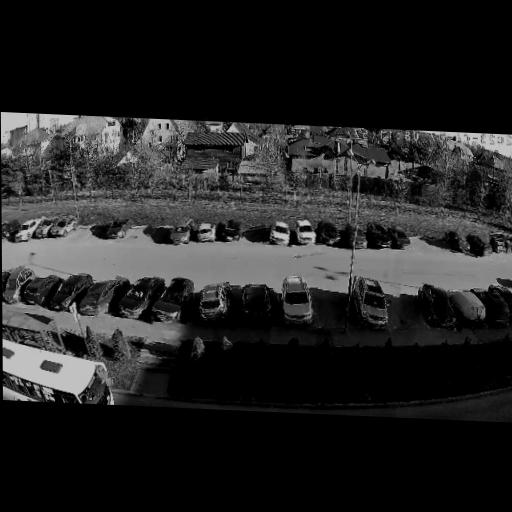busy: (347, 277, 399, 330), (414, 285, 468, 332), (273, 273, 320, 326), (109, 277, 159, 322), (147, 278, 193, 323), (189, 282, 234, 324), (234, 284, 277, 325), (74, 280, 120, 317), (446, 289, 492, 326), (46, 274, 89, 313), (483, 285, 512, 327), (21, 275, 59, 307), (2, 266, 31, 306), (40, 214, 79, 241), (364, 221, 400, 250), (444, 232, 481, 257), (96, 218, 134, 242), (6, 218, 41, 242), (316, 221, 347, 248), (465, 230, 494, 258), (267, 221, 295, 247), (291, 219, 317, 245), (217, 220, 245, 244), (345, 224, 370, 249), (166, 221, 192, 245), (193, 223, 218, 243), (2, 219, 22, 242), (3, 346, 16, 361)
free: (314, 302, 349, 326), (390, 304, 420, 326), (427, 231, 450, 257), (244, 224, 268, 248), (132, 221, 154, 246), (72, 219, 95, 242), (152, 224, 174, 246), (91, 218, 109, 242), (409, 235, 426, 255)
